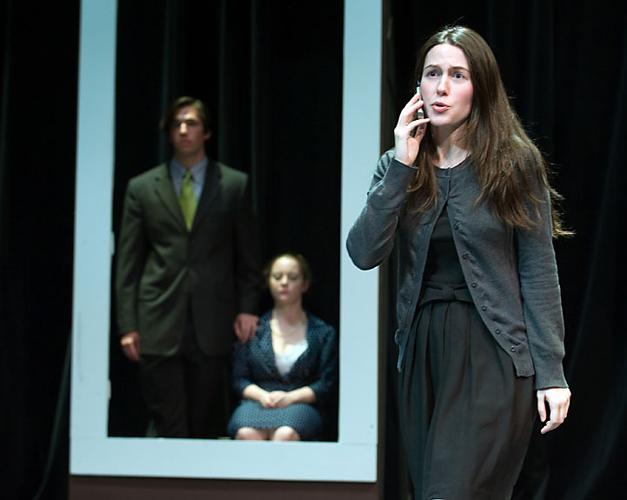person: (350, 22, 572, 500)
